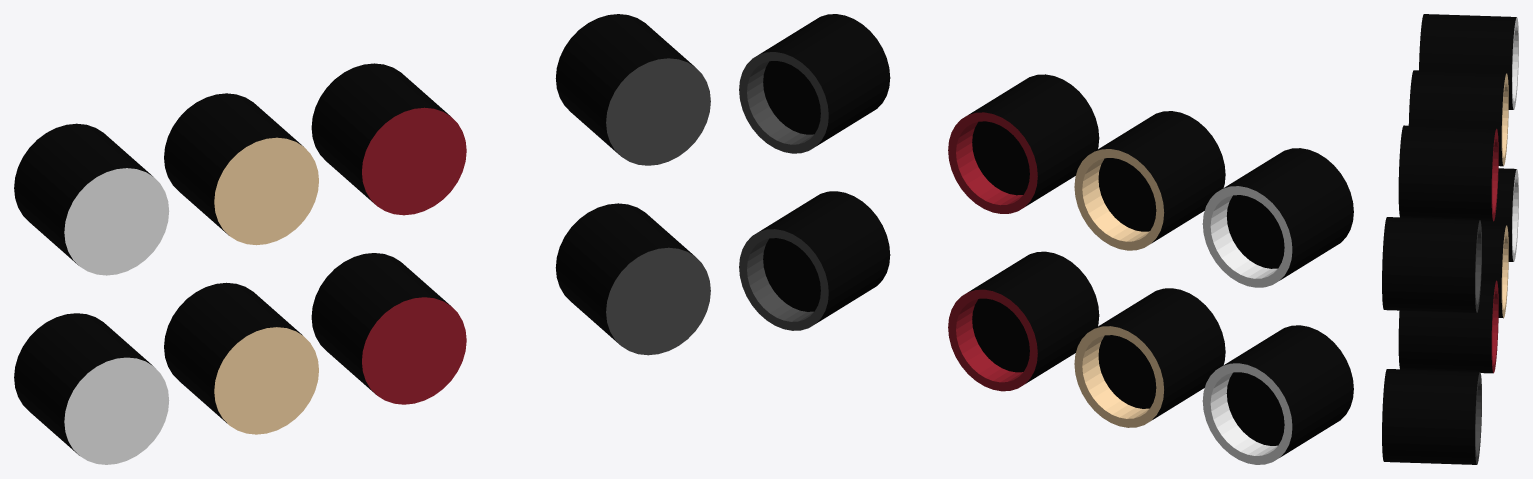
Rendered from plugs.glb.
3 renders of one model, left to right at view 1: azimuth 30°, elevation 25°; view 2: azimuth 150°, elevation 25°; view 3: azimuth 270°, elevation 25°, orthographic. The views are drawn at different scales.
Parts seen in each view (by area): view 1: Cylinder.005; view 2: Cylinder.005; view 3: Cylinder.005.
Boxes of the visible parts, x1,y1,x2,y2 form: Cylinder.005: (14, 14, 710, 464); Cylinder.005: (739, 14, 1353, 464); Cylinder.005: (1382, 14, 1518, 464).
Size of the model in its own units: 0.0588 by 0.0264 by 0.0139.
Materials: 1 (1 with a texture image).
